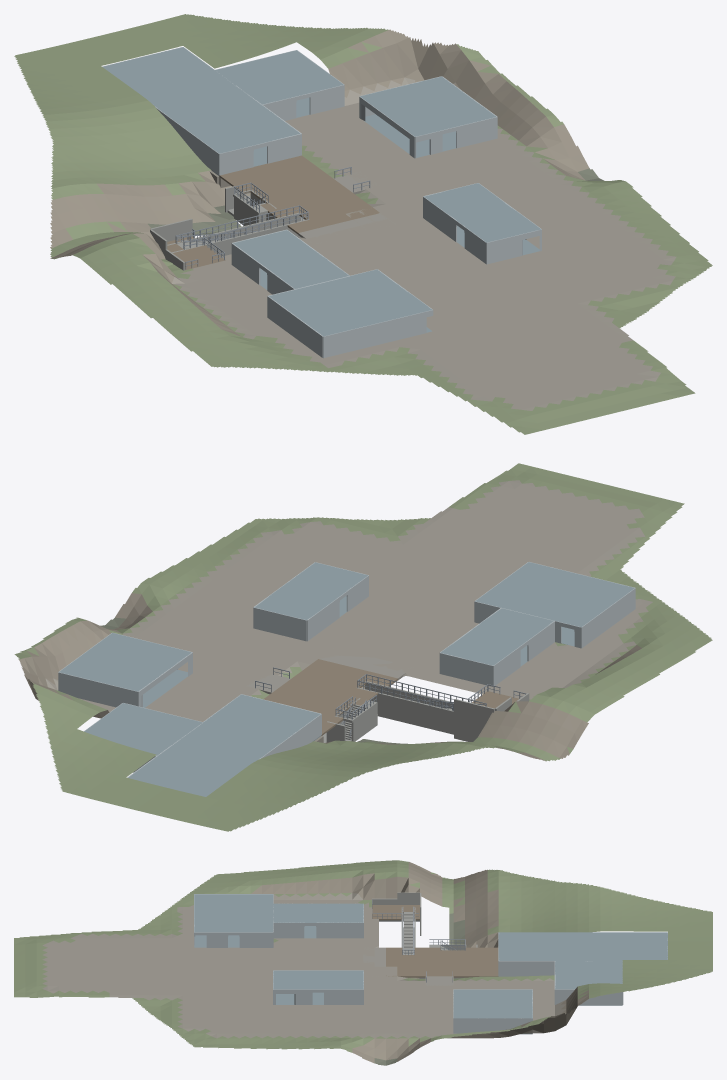
File: saved-earthworks.glb
3 views of the same model, one above another, from view 1: azimuth 30°, elevation 25°; view 2: azimuth 150°, elevation 25°; view 3: azimuth 270°, elevation 25° (orthographic). The views are drawn at different scales.
Parts seen in each view (by area): view 1: Saved editor geographic earthworks WLD-12, Ceiling cap tunnel, WLD-12 trestle deck with rectangular access region0, Ceiling cap signal, Ceiling cap store, Ceiling cap refuge, Ceiling cap coach-b, Ceiling cap coach-a, Flat route shell Wall signal S, Wall signal W, Floor store, Flat route shell Wall coach-b S (+10 smaller); view 2: Saved editor geographic earthworks WLD-12, Ceiling cap tunnel, Ceiling cap signal, WLD-12 trestle deck with rectangular access region0, Ceiling cap store, Ceiling cap refuge, Ceiling cap coach-b, Ceiling cap coach-a, WLD-12 west stair retaining wall 36.75 region0, Wall store N, WLD-12 platform north retaining parapet region0, Wall signal W (+9 smaller); view 3: Saved editor geographic earthworks WLD-12, Ceiling cap tunnel, WLD-12 trestle deck with rectangular access region0, Ceiling cap signal, Ceiling cap store, Ceiling cap coach-a, Ceiling cap coach-b, Ceiling cap refuge, Wall store E, Flat route shell Wall tunnel E.001, Flat route shell Wall coach-a E, WLD-12 west maintenance access platform region0 (+7 smaller).
Boxes of the visible parts, x1,y1,x2,y2 form: Saved editor geographic earthworks WLD-12: (14, 14, 712, 434); Ceiling cap tunnel: (102, 47, 299, 153); WLD-12 trestle deck with rectangular access region0: (219, 155, 379, 234); Ceiling cap signal: (269, 269, 432, 336); Ceiling cap store: (360, 76, 495, 136); Ceiling cap refuge: (215, 50, 343, 104); Ceiling cap coach-b: (424, 183, 540, 242); Ceiling cap coach-a: (233, 230, 349, 288); Flat route shell Wall signal S: (323, 310, 432, 358); Wall signal W: (267, 296, 323, 357); Floor store: (364, 114, 455, 157); Flat route shell Wall coach-b S: (486, 229, 541, 264); Saved editor geographic earthworks WLD-12: (14, 463, 712, 831); Ceiling cap tunnel: (128, 694, 320, 796); Ceiling cap signal: (475, 562, 634, 626); WLD-12 trestle deck with rectangular access region0: (263, 659, 397, 735); Ceiling cap store: (59, 633, 191, 691); Ceiling cap refuge: (84, 703, 202, 755); Ceiling cap coach-b: (254, 562, 367, 620); Ceiling cap coach-a: (440, 608, 553, 665); WLD-12 west stair retaining wall 36.75 region0: (357, 687, 453, 734); Wall store N: (58, 672, 138, 707); WLD-12 platform north retaining parapet region0: (454, 699, 494, 741); Wall signal W: (581, 588, 635, 648); Saved editor geographic earthworks WLD-12: (14, 860, 712, 1065); Ceiling cap tunnel: (498, 932, 667, 960); WLD-12 trestle deck with rectangular access region0: (386, 947, 498, 977); Ceiling cap signal: (194, 894, 273, 932); Ceiling cap store: (453, 989, 532, 1018); Ceiling cap coach-a: (273, 903, 363, 922); Ceiling cap coach-b: (273, 970, 363, 989); Ceiling cap refuge: (555, 961, 622, 989); Wall store E: (453, 1018, 532, 1033); Flat route shell Wall tunnel E.001: (498, 961, 554, 976); Flat route shell Wall coach-a E: (316, 922, 363, 938); WLD-12 west maintenance access platform region0: (372, 905, 419, 920).
Size of the model in its own units: 75 by 10.08 by 124.
Materials: 28 (15 with a texture image).
